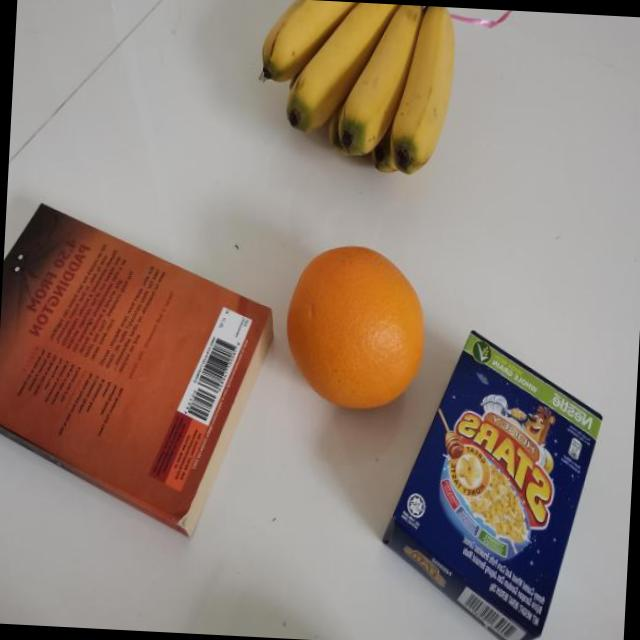Banana: (250, 0, 463, 179)
Book: (0, 198, 283, 547)
Cerealbox: (370, 323, 613, 640)
Orange: (280, 238, 434, 414)
